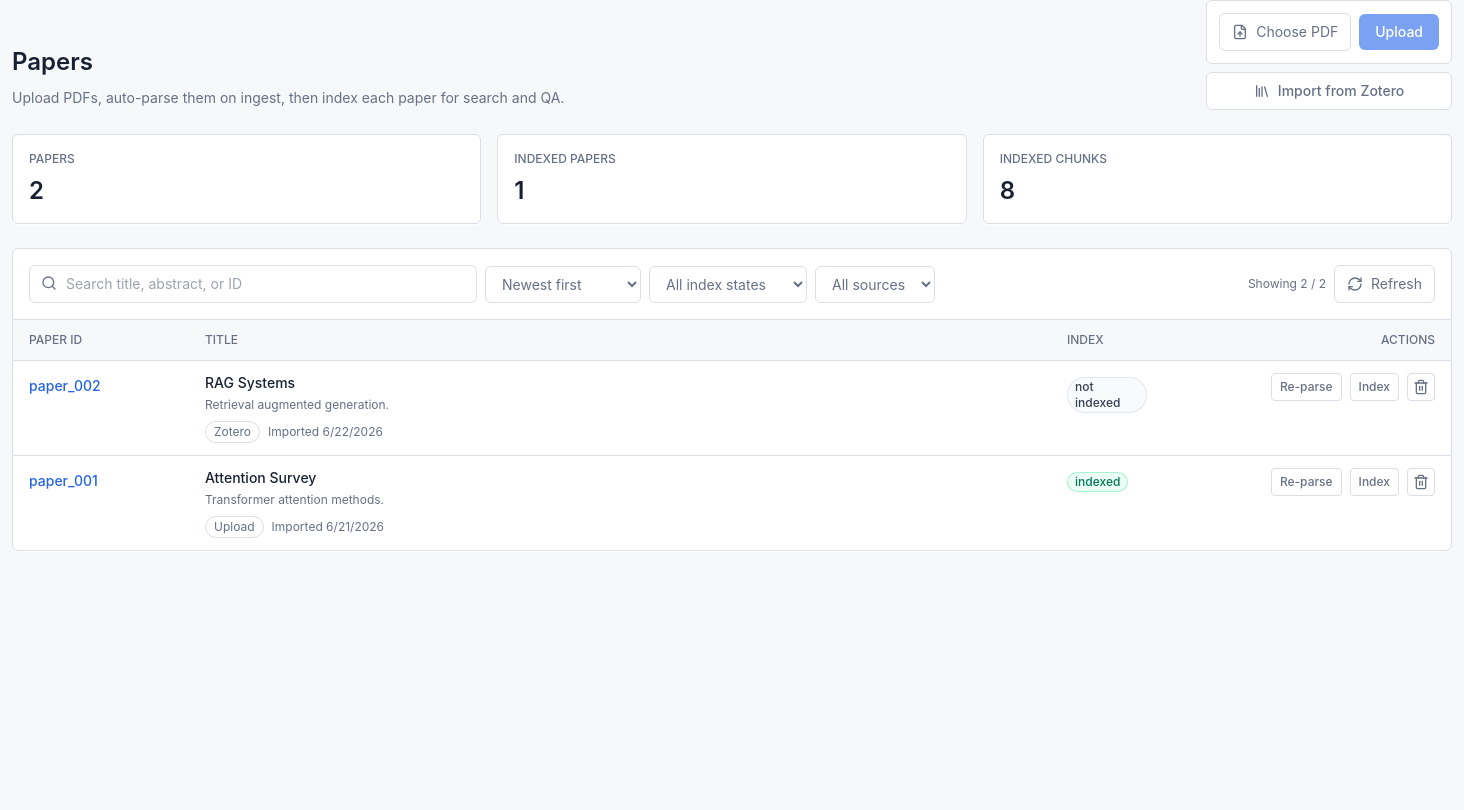
Test: PapersPage › shows row-level task state on the index button after starting indexing
The image size is (1464, 810).
Check: the text "Attention Survey" is shown, box [205, 469, 316, 486]
Click the button "Index" in the row of "paper_002" at [1374, 387], box [1350, 373, 1399, 401]
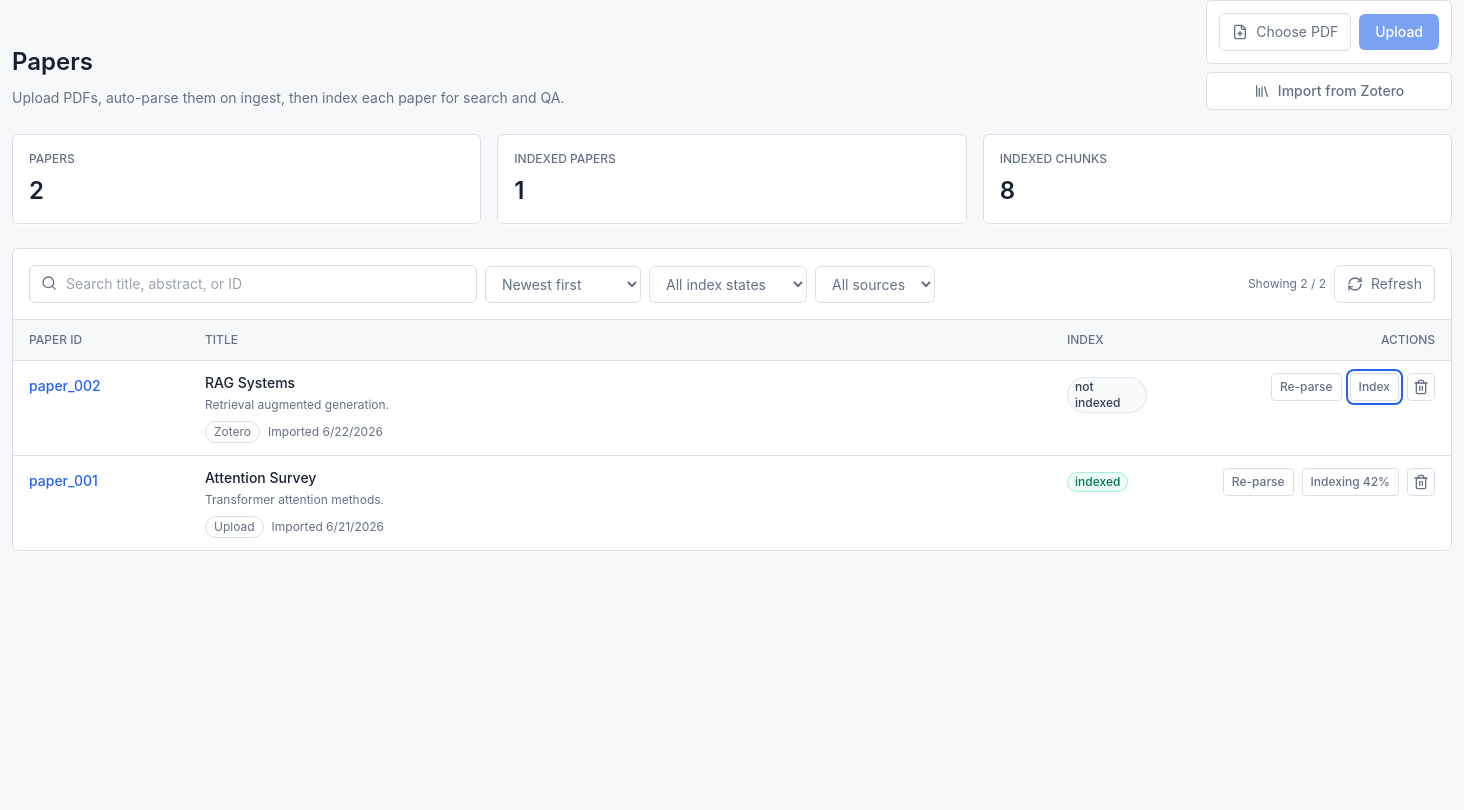
Check: the button "Indexing 42%" is shown, box [1302, 468, 1399, 496]
